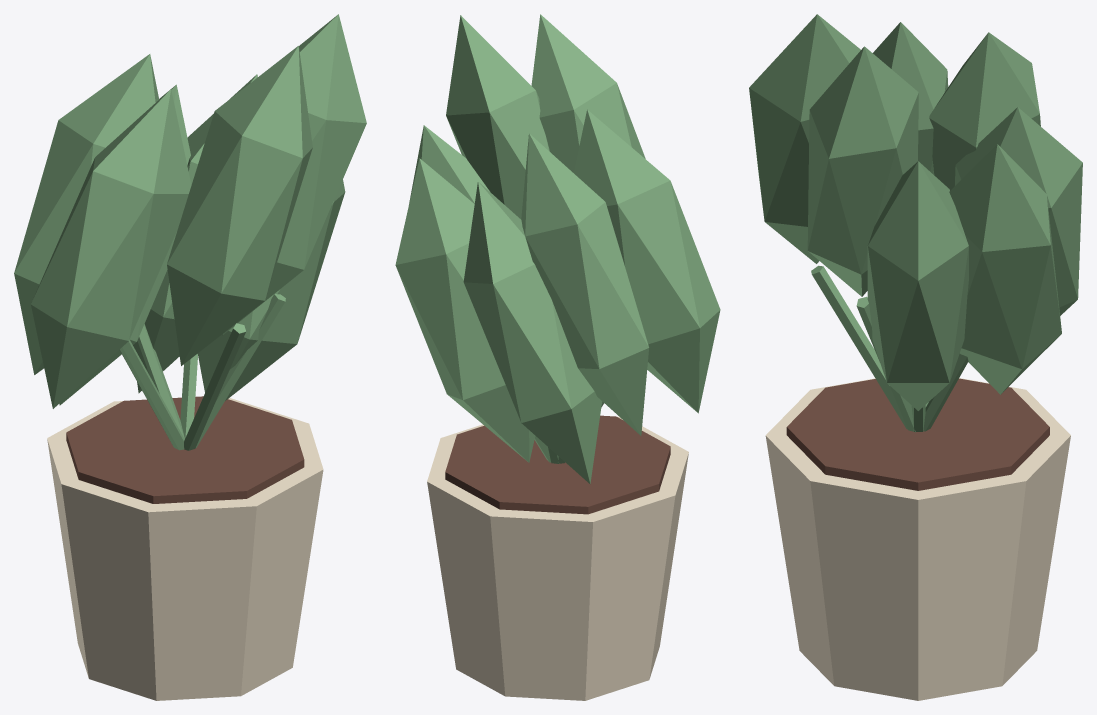
The picture shows the model from 3 angles, left to right: view 1: azimuth 30°, elevation 25°; view 2: azimuth 150°, elevation 25°; view 3: azimuth 270°, elevation 25°; orthographic projection. The views are drawn at different scales.
Visible parts, largest first — view 1: Pot; view 2: Pot; view 3: Pot.
Part boxes in pixels (x1,y1,x2,y2): Pot: [14, 14, 366, 700]; Pot: [395, 14, 720, 700]; Pot: [749, 14, 1082, 700].
Bounding box in the file's own units: 0.4535 × 0.8728 × 0.3936.
Materials: 1 (1 with a texture image).
